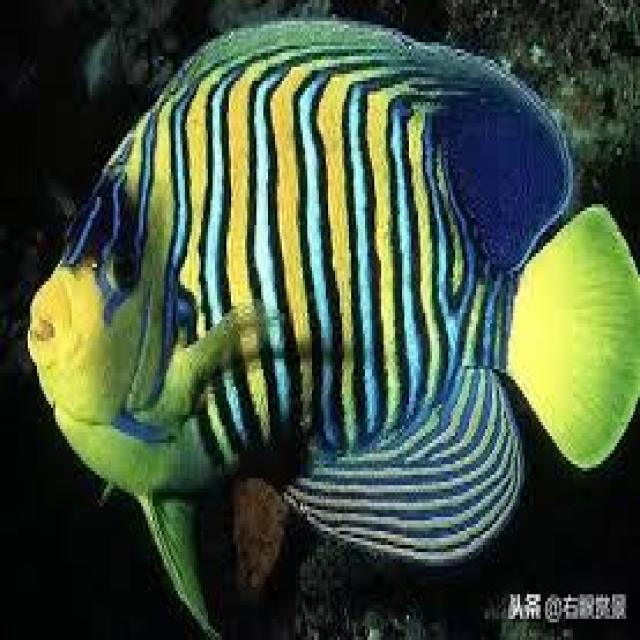AngelFish: (31, 17, 636, 630)
